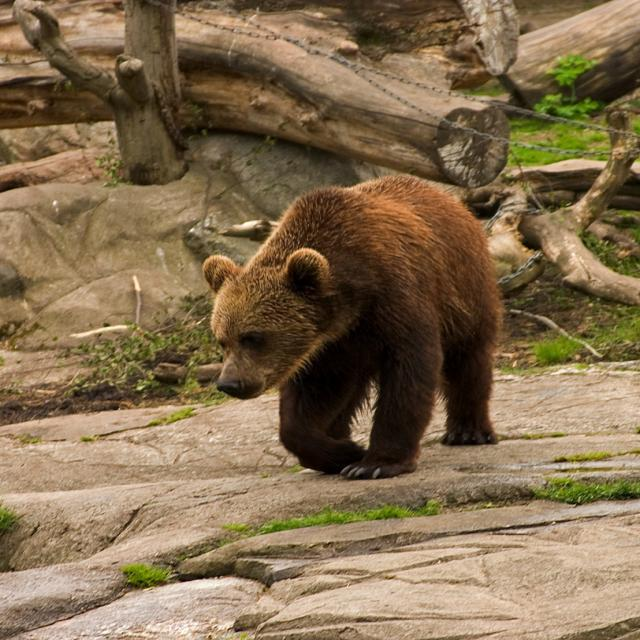bear: (179, 154, 566, 492)
